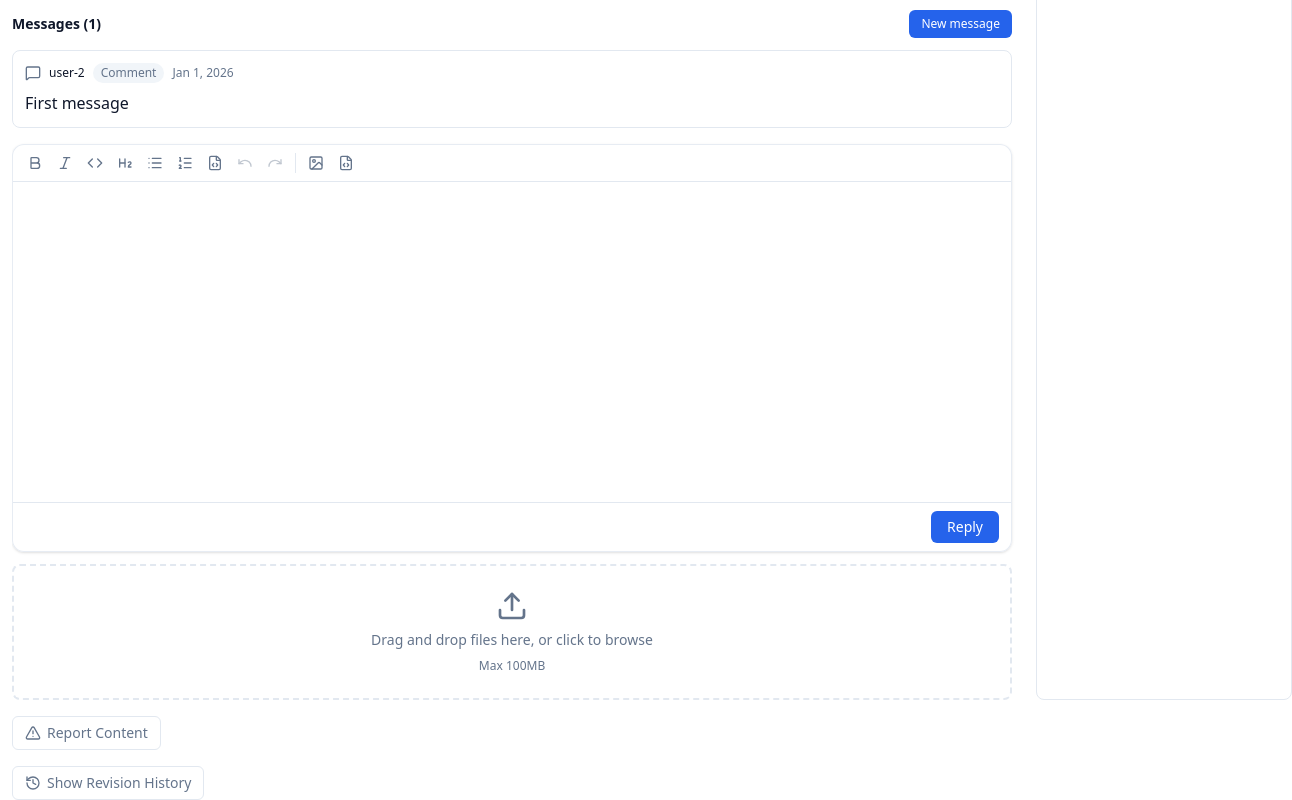
ThreadDetailView › shows FlagForm when flag toggle is clicked
(page scrolled)
Click the button with test id "flag-toggle" at (86, 733), box top-left (12, 716), bottom-right (161, 750)
(page scrolled)
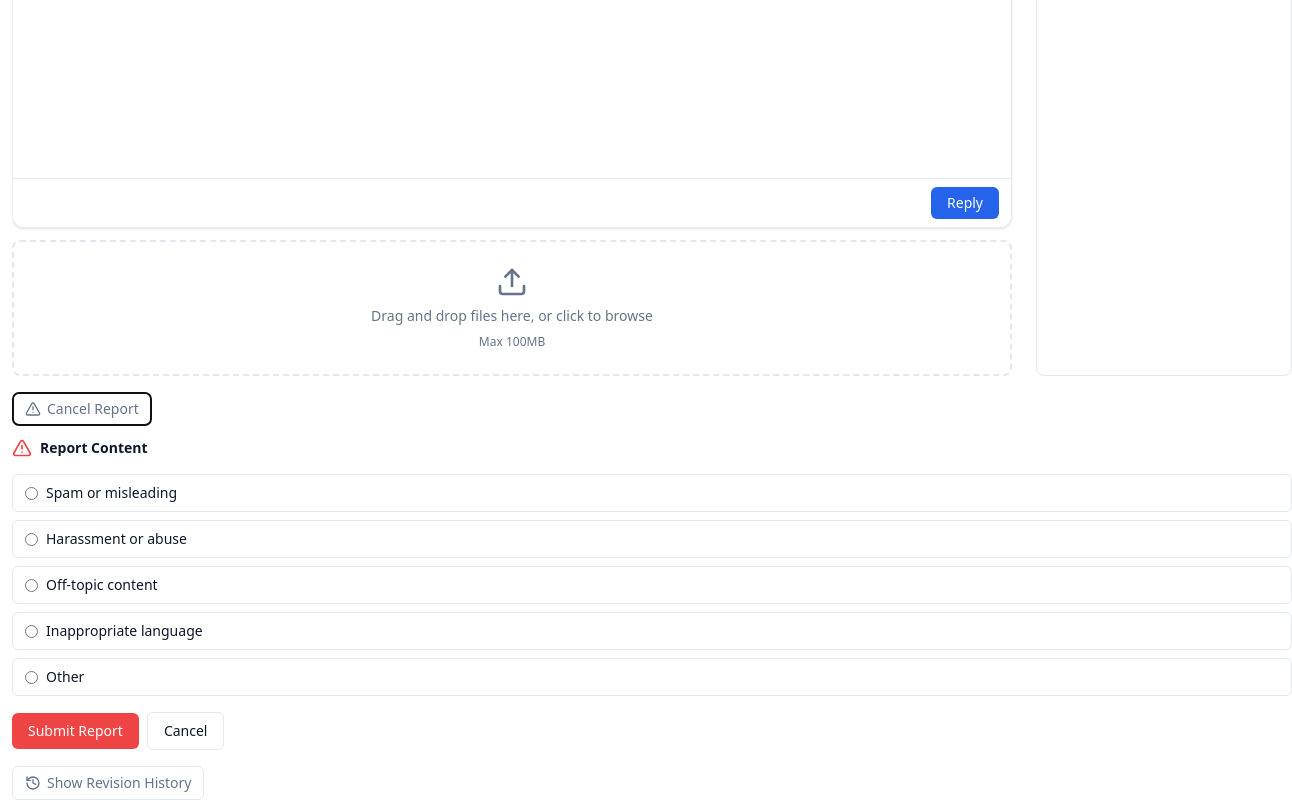
Result: the form with test id "flag-form" is shown at top-left (12, 438), bottom-right (1291, 750)
